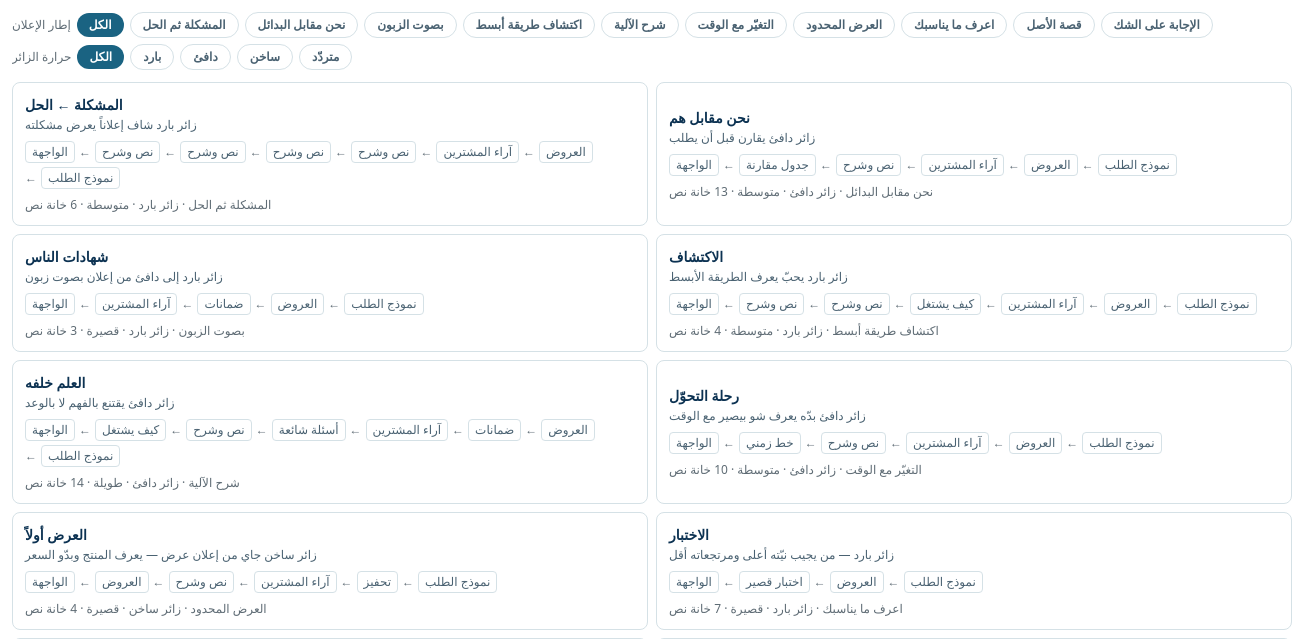
Test: the filters, which narrow and do nothing else › narrows by the ad that will point at the page
The width and height of the screenshot is (1304, 639).
Click the button "اكتشاف طريقة أبسط" at (529, 25), box [463,12,595,38]
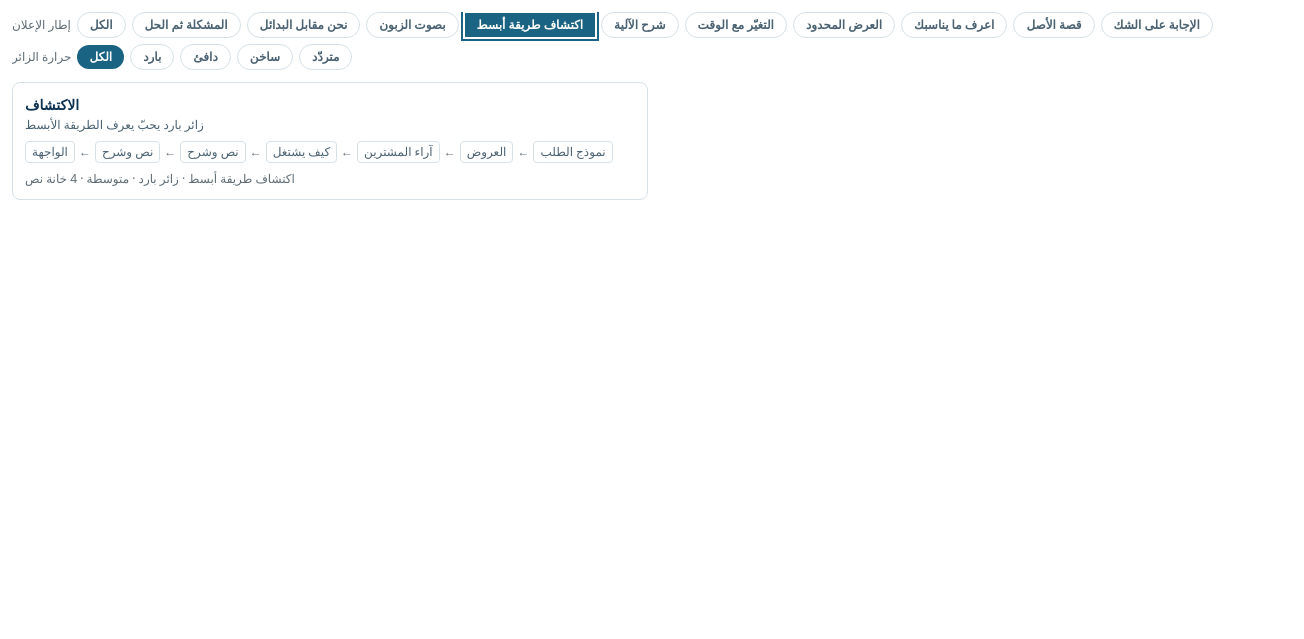
Expected: the text "الاكتشاف" is shown, [25,95,79,114]
Expected: the button "العرض أولاً" is gone
